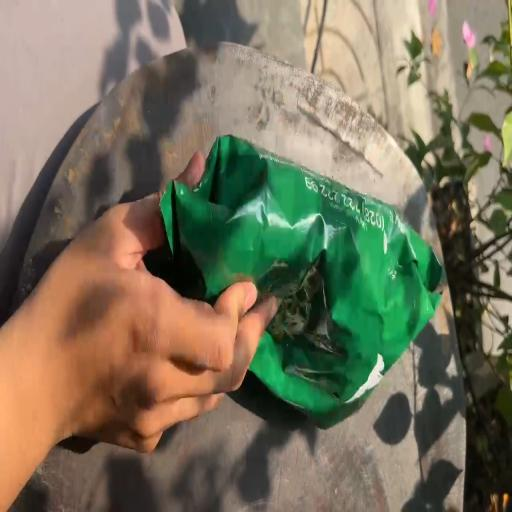cafe_xay: (161, 135, 443, 427)
